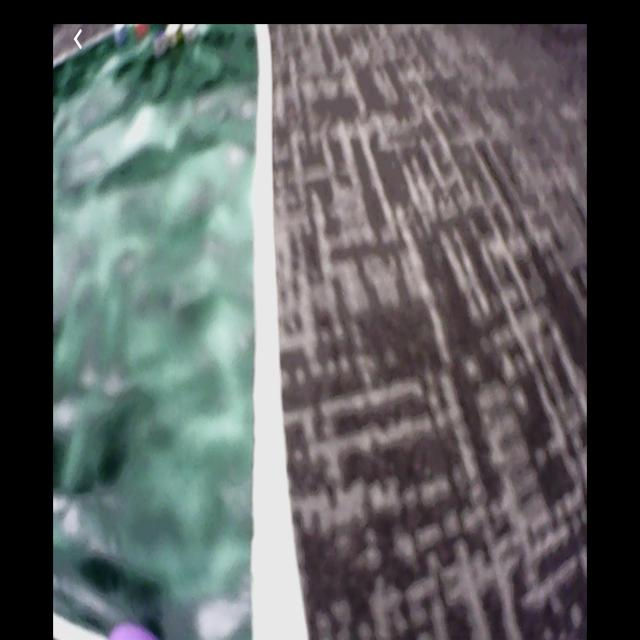ball: (108, 621, 160, 639)
